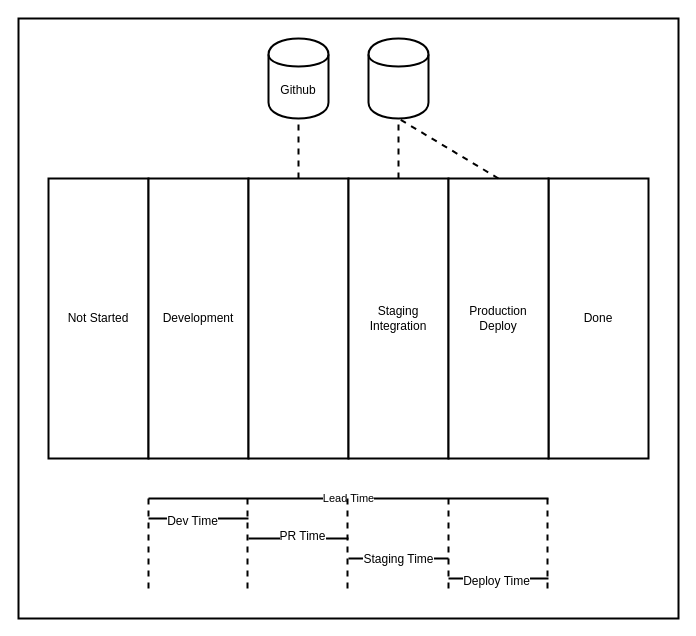
Some shapes in this 696 by 636 pixel diagram are drawn without their labels. The centre of each missing label's shape, as x and y in pixels:
"Jenkins" goes at [398,78].
"Pull Request" goes at [298,318].
